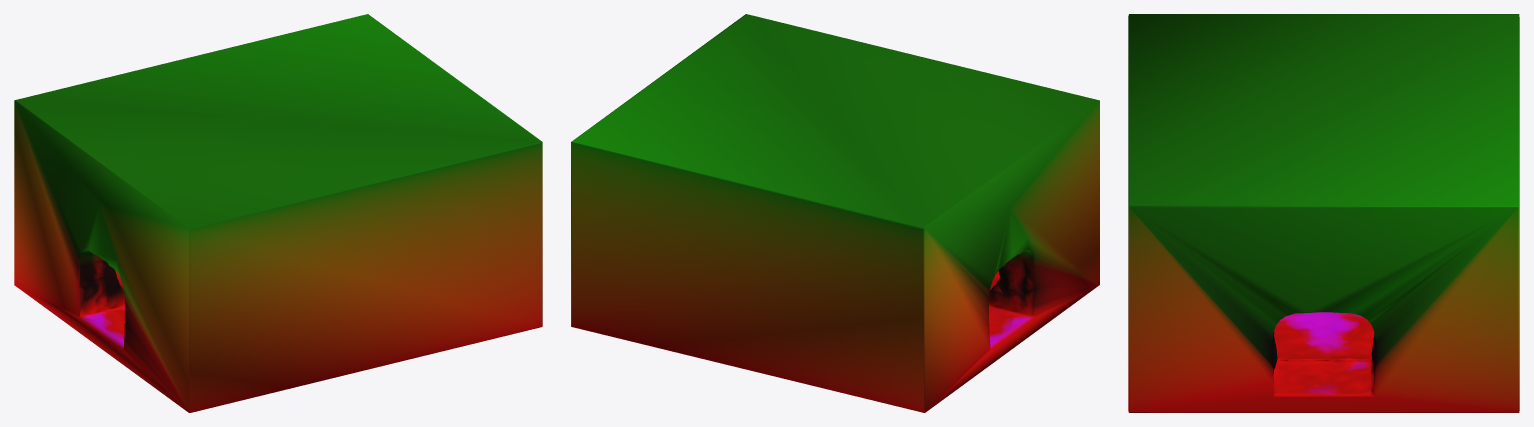
The model's file is SM_Mine_Chamber.fbx.
The picture shows the model from 3 angles, left to right: view 1: azimuth 30°, elevation 25°; view 2: azimuth 150°, elevation 25°; view 3: azimuth 270°, elevation 25°; orthographic projection. The views are drawn at different scales.
Visible parts, largest first — view 1: SM_Mine_Chamber; view 2: SM_Mine_Chamber; view 3: SM_Mine_Chamber.
Boxes of the visible parts, x1,y1,x2,y2 form: SM_Mine_Chamber: (14, 14, 542, 412); SM_Mine_Chamber: (571, 14, 1099, 412); SM_Mine_Chamber: (1128, 14, 1519, 412).
Bounding box in the file's own units: 14 × 7 × 12.
